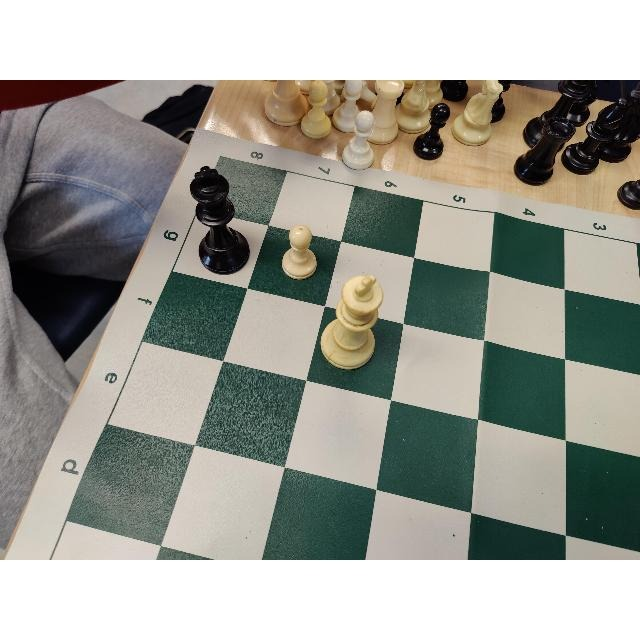black-king: (188, 166, 251, 274)
white-king: (320, 276, 384, 372)
white-pawn: (278, 224, 317, 279)
